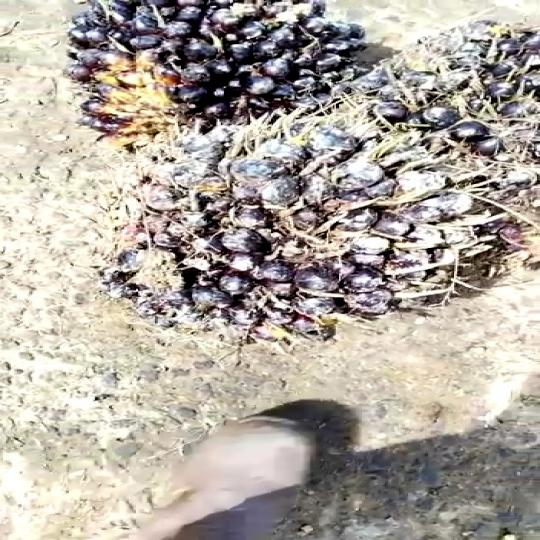mentah: (105, 139, 504, 344), (56, 0, 365, 133)
